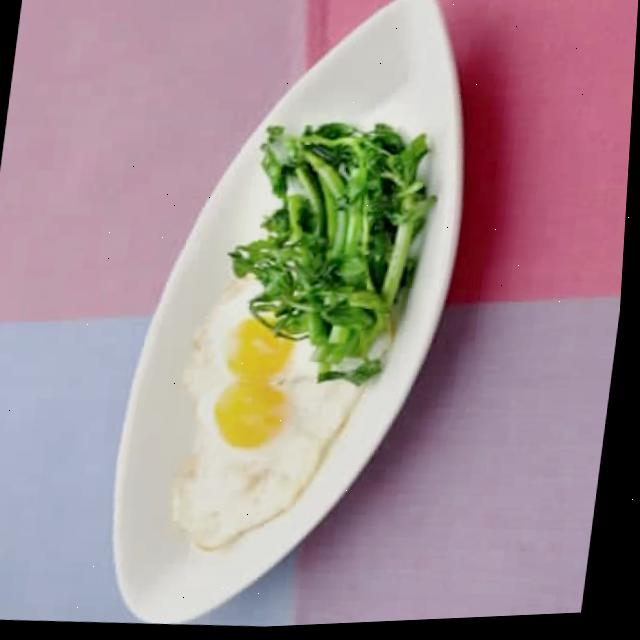鸡蛋料理: (145, 260, 399, 569)
